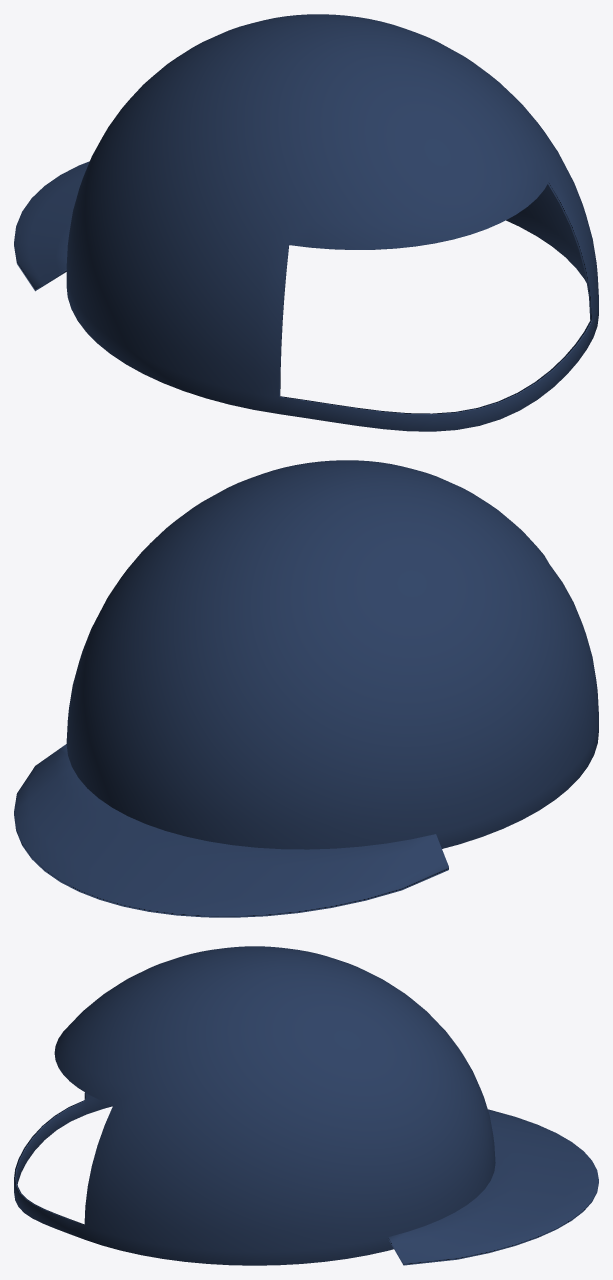
File: baseball-cap.glb
The picture shows the model from 3 angles, top to bottom: view 1: azimuth 30°, elevation 25°; view 2: azimuth 150°, elevation 25°; view 3: azimuth 270°, elevation 25°; orthographic projection. The views are drawn at different scales.
Visible parts, largest first — view 1: CapShellRearOpeningBand, CurvedFrontBrim; view 2: CapShellRearOpeningBand, CurvedFrontBrim; view 3: CapShellRearOpeningBand, CurvedFrontBrim.
Part boxes in pixels (box(x1,y1,x2,y2)): CapShellRearOpeningBand: box(66, 14, 598, 431); CurvedFrontBrim: box(14, 161, 89, 291); CapShellRearOpeningBand: box(66, 460, 598, 849); CurvedFrontBrim: box(14, 744, 448, 917); CapShellRearOpeningBand: box(14, 946, 495, 1265); CurvedFrontBrim: box(388, 1109, 598, 1265).
Bounding box in the file's own units: 0.224 × 0.133 × 0.311.
